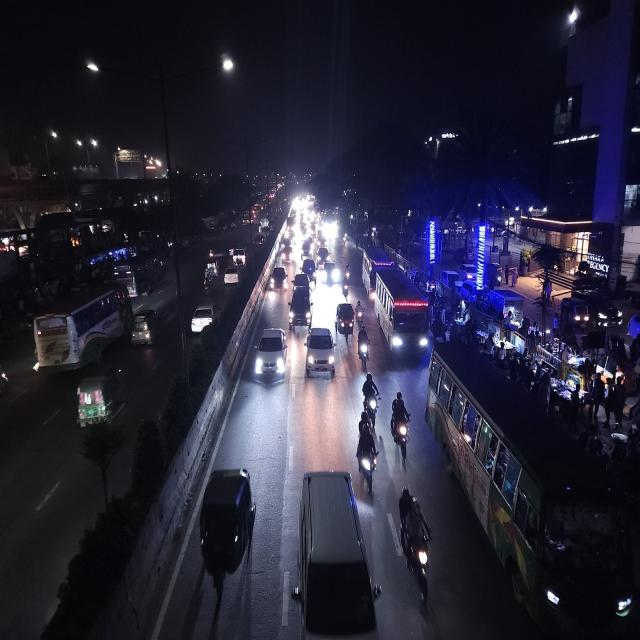bus: (427, 331, 635, 640), (32, 293, 134, 365), (371, 268, 435, 364)
car: (290, 470, 377, 640), (254, 326, 285, 389), (305, 325, 334, 381), (286, 283, 313, 327), (192, 301, 216, 340), (267, 265, 289, 293), (301, 256, 318, 285), (224, 266, 242, 288), (322, 262, 338, 283)
cng: (195, 465, 255, 590), (76, 363, 124, 429), (129, 307, 157, 351), (332, 298, 354, 341)
motorcycle: (398, 484, 436, 597), (355, 413, 383, 495), (390, 388, 413, 455), (357, 371, 379, 416), (358, 324, 372, 370), (202, 267, 212, 295), (342, 279, 352, 301), (356, 302, 364, 323), (346, 262, 352, 282)
